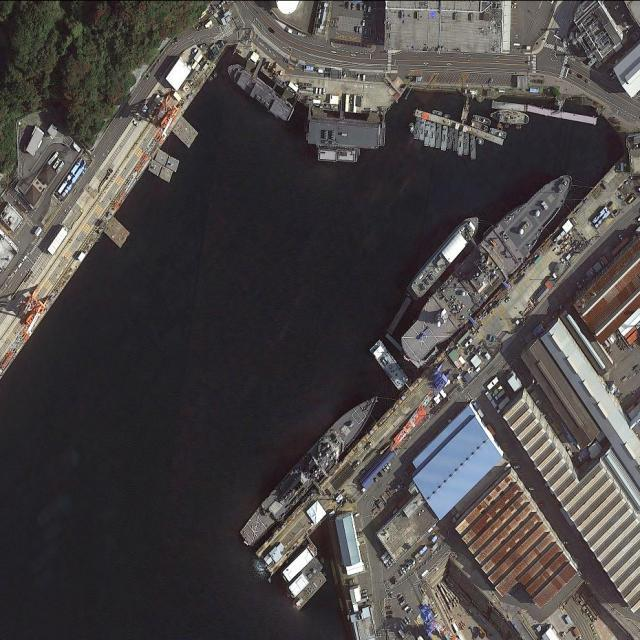Commander: (392, 162, 585, 369)
Destroyer: (230, 389, 390, 548)
Other Ship: (222, 61, 299, 126), (489, 106, 530, 128)
Other Warship: (399, 211, 486, 304)
